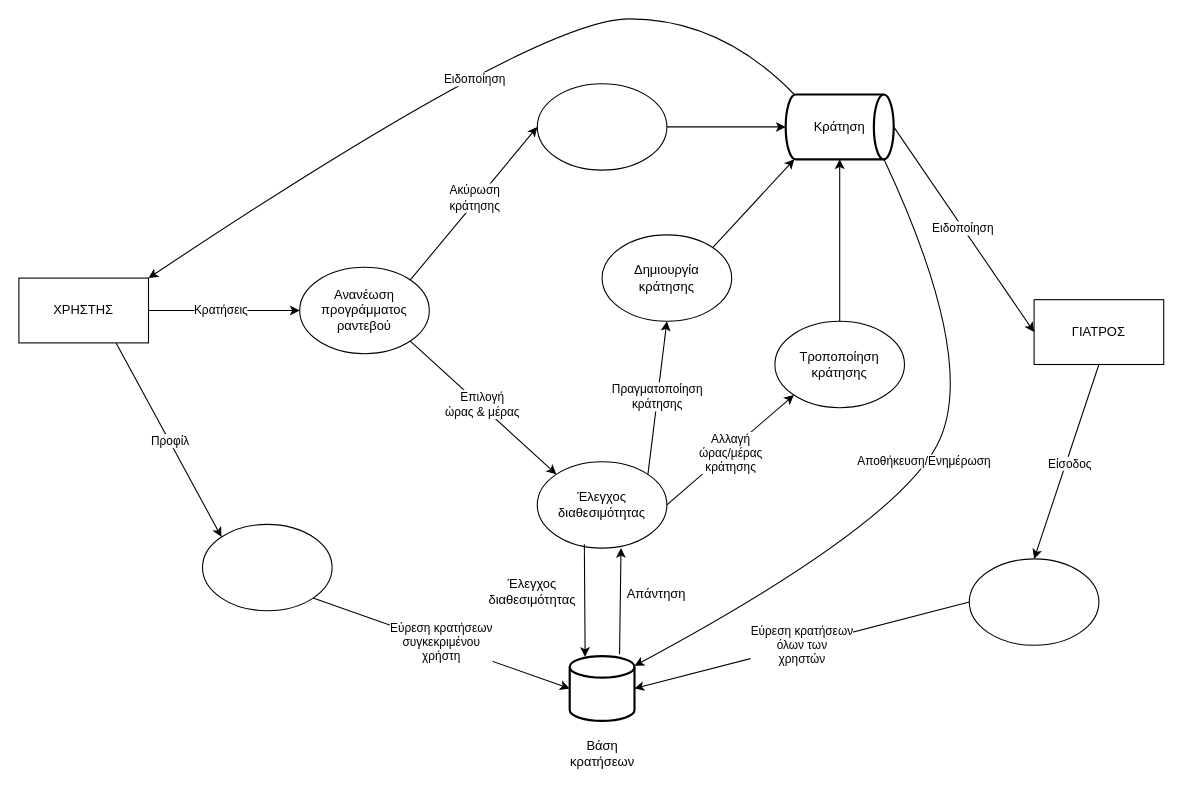
The diagram is 1183 pixels wide and 794 high, and some of its shapes have lost their labels. Here are the shapes that lost their labels. From the top down, the centre of each, then its label:
the point at 601,126: Διαγραφή κράτησης
the point at 266,567: Προβολή προηγούμενων κρατήσεων
the point at 1033,601: Προβολή ραντεβού σε εκκρεμότητα
